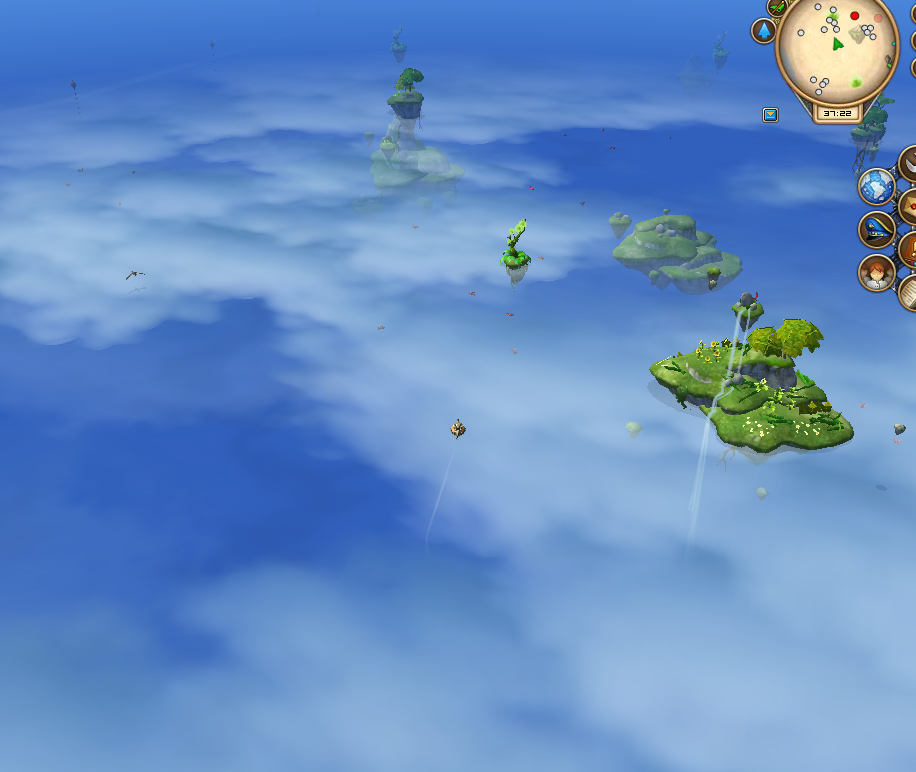dandelion-full: (500, 216, 533, 286), (711, 25, 732, 72), (388, 23, 410, 65)
